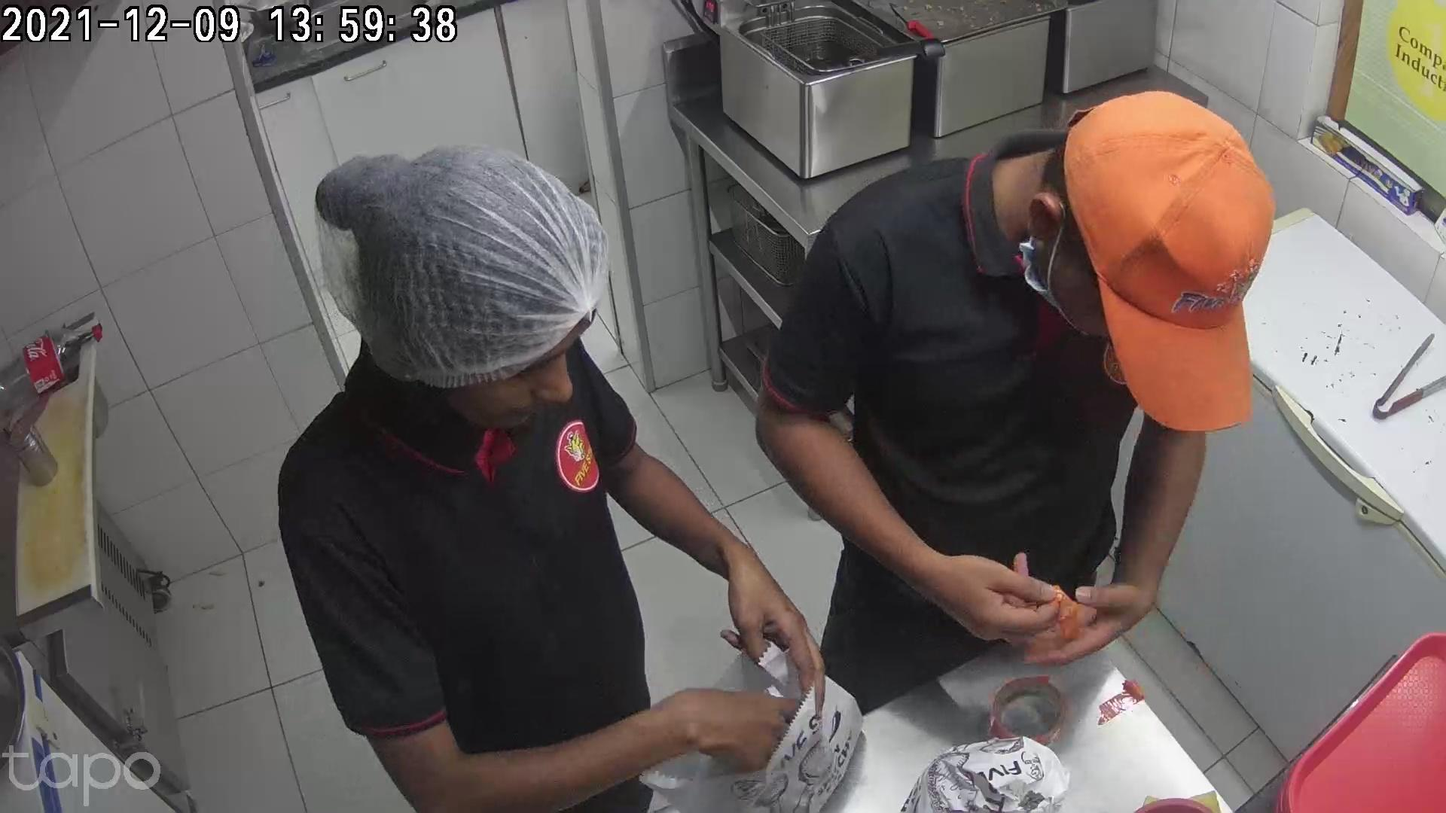no_gloves: (906, 553, 1060, 646)
